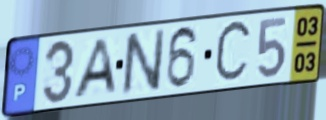3: (41, 37, 76, 107)
5: (253, 14, 291, 80)
6: (165, 23, 203, 94)
A: (70, 36, 120, 101)
C: (212, 16, 255, 88)
N: (120, 26, 168, 99)
